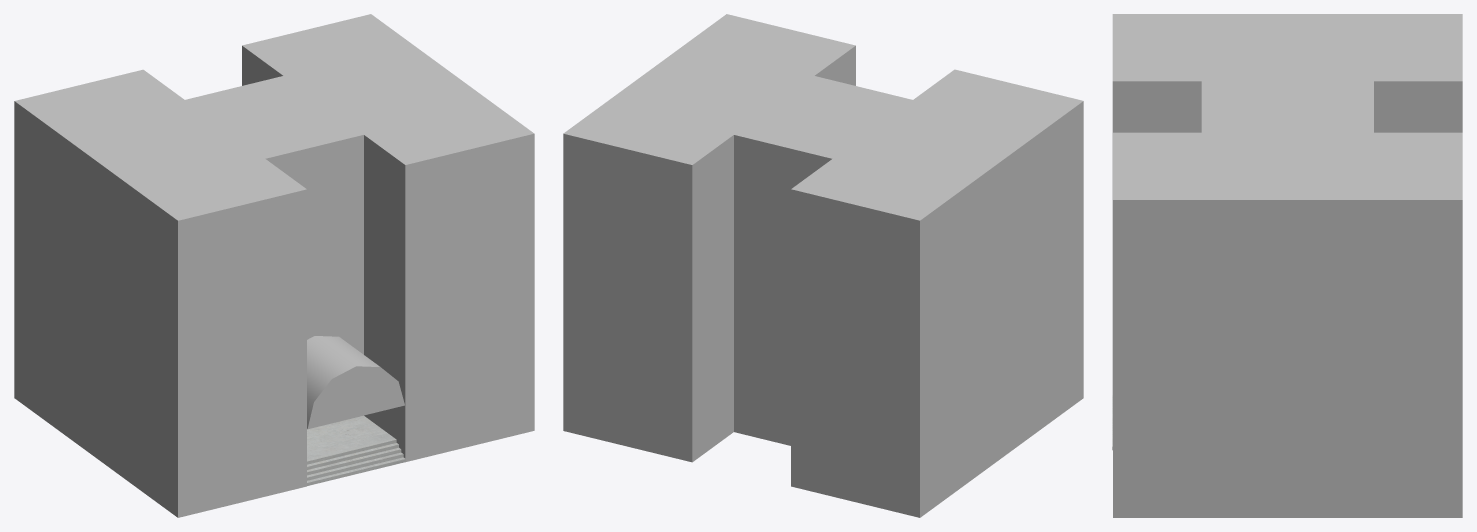
Rendered from dib.FBX.
The picture shows the model from 3 angles, left to right: view 1: azimuth 30°, elevation 25°; view 2: azimuth 150°, elevation 25°; view 3: azimuth 270°, elevation 25°; orthographic projection. The views are drawn at different scales.
Parts seen in each view (by area): view 1: Dib, Cupola, Stairs; view 2: Dib; view 3: Dib.
Boxes of the visible parts, x1=… form: Dib: x1=14, y1=14, x2=534, y2=517; Cupola: x1=307, y1=336, x2=404, y2=429; Stairs: x1=307, y1=415, x2=405, y2=485; Dib: x1=563, y1=14, x2=1083, y2=517; Dib: x1=1112, y1=14, x2=1462, y2=517.
Size of the model in its own units: 25.77 by 20.52 by 20.5.
